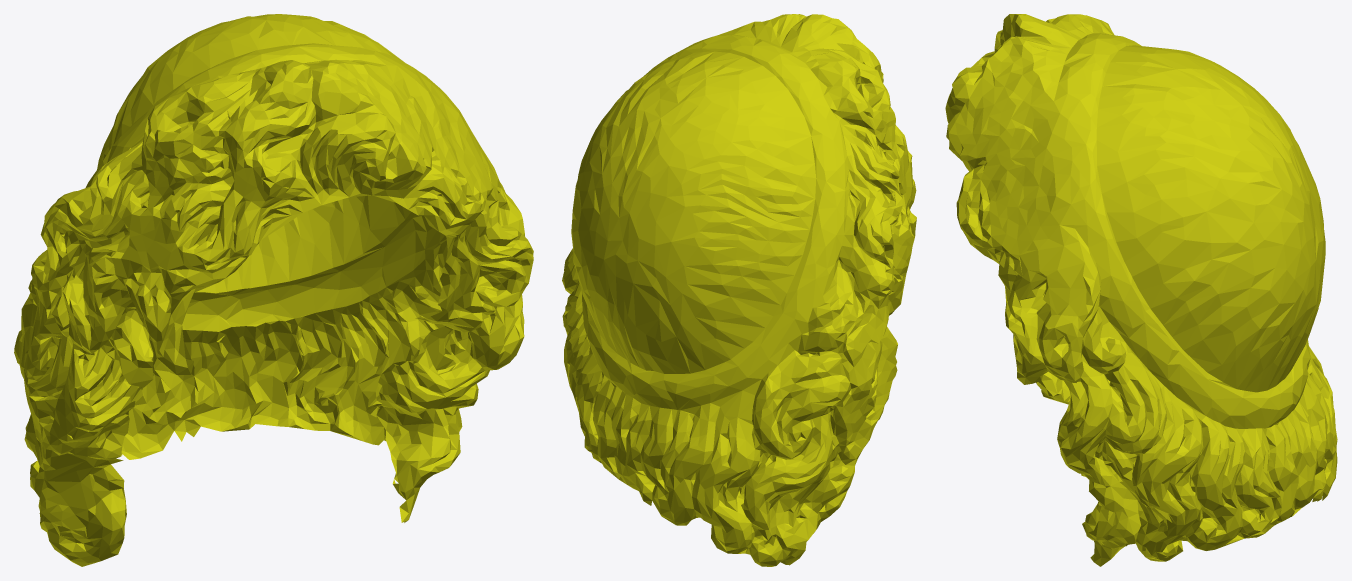
File: hair_yellow.obj
The picture shows the model from 3 angles, left to right: view 1: azimuth 30°, elevation 25°; view 2: azimuth 150°, elevation 25°; view 3: azimuth 270°, elevation 25°; orthographic projection. The views are drawn at different scales.
Parts seen in each view (by area): view 1: hair_yellow_hair_yellow_helios_20140908_Alexander_as_Helios_by_C; view 2: hair_yellow_hair_yellow_helios_20140908_Alexander_as_Helios_by_C; view 3: hair_yellow_hair_yellow_helios_20140908_Alexander_as_Helios_by_C.
Boxes of the visible parts, x1,y1,x2,y2 form: hair_yellow_hair_yellow_helios_20140908_Alexander_as_Helios_by_C: [14, 14, 533, 566]; hair_yellow_hair_yellow_helios_20140908_Alexander_as_Helios_by_C: [562, 14, 916, 566]; hair_yellow_hair_yellow_helios_20140908_Alexander_as_Helios_by_C: [945, 14, 1337, 566].
Size of the model in its own units: 67.94 by 84.7 by 57.75.
